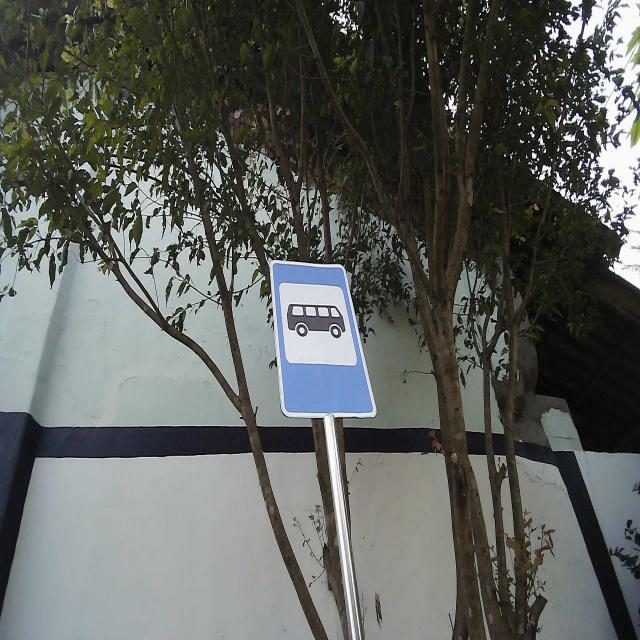bus_stop: (269, 258, 379, 420)
